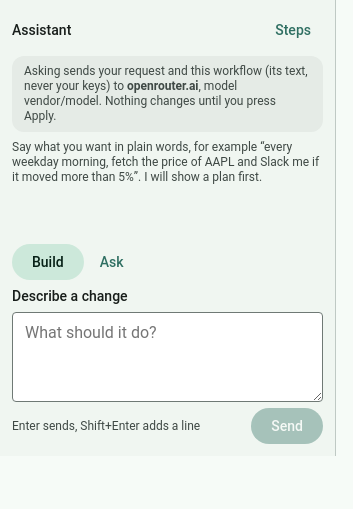
AssistantPanel › undoes the whole apply with one click: the file goes back as it was
Type "do it" into the text box labelled "Describe a change" at (168, 357), box [12,312,323,402]
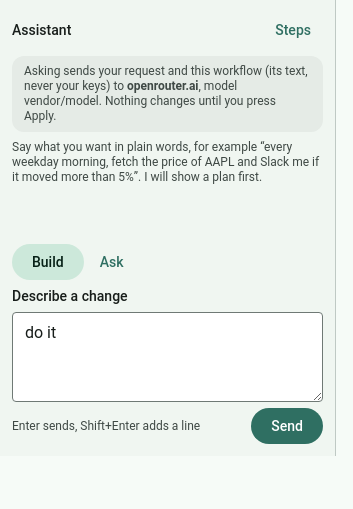
Click the button "Send" at (287, 426), box [251,408,323,444]
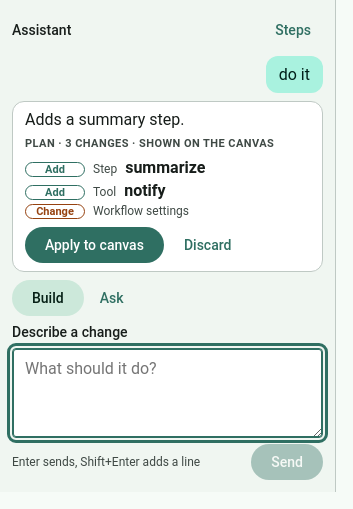
Result: the element named "Proposed plan" is shown at [12,101,323,272]
Click the button "Apply to canvas" at (94, 245), box [25,227,164,263]
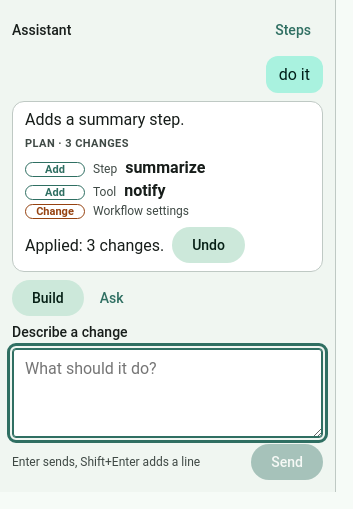
Result: the text "Applied: 3 changes." is shown at [25,236,164,254]
Click the button "Undo" at (209, 245), box [172,227,245,263]
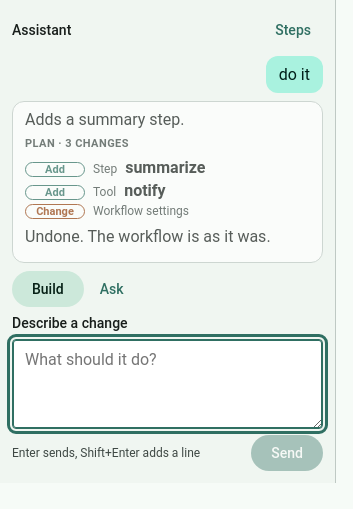
Result: the text "Undone. The workflow is as it was." is shown at [25,227,310,246]
